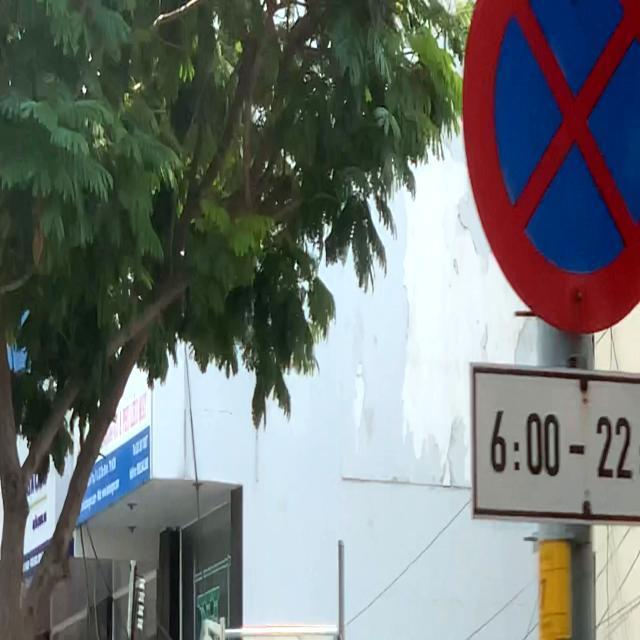130-cam-dung-va-do-xe: (462, 0, 640, 335)
